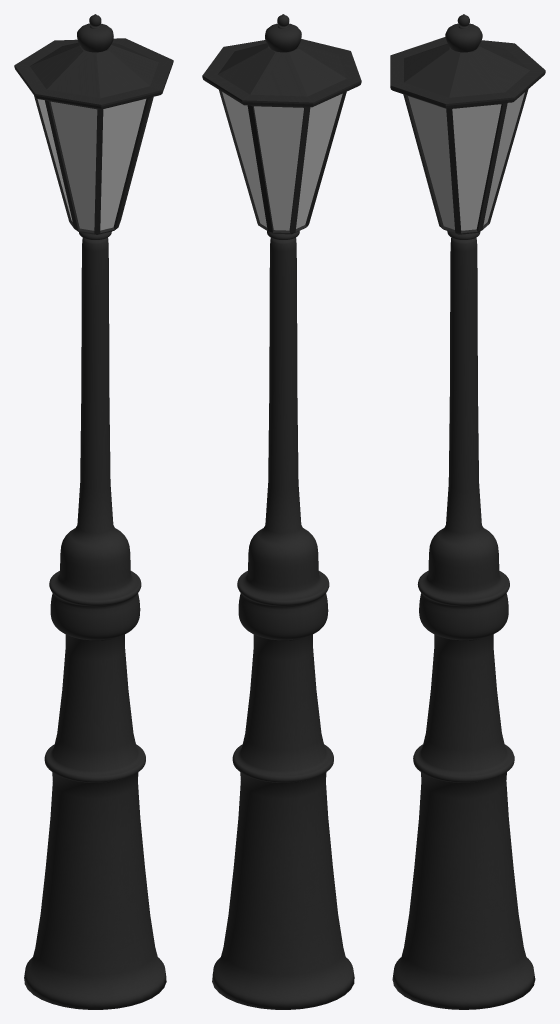
File: lamparaTextura.obj
The picture shows the model from 3 angles, left to right: view 1: azimuth 30°, elevation 25°; view 2: azimuth 150°, elevation 25°; view 3: azimuth 270°, elevation 25°; orthographic projection.
Parts seen in each view (by area): view 1: Cylinder_002; view 2: Cylinder_002; view 3: Cylinder_002.
Part boxes in pixels (x1,y1,x2,y2): Cylinder_002: (14, 14, 173, 1009); Cylinder_002: (202, 14, 361, 1009); Cylinder_002: (390, 14, 545, 1009).
Size of the model in its own units: 0.3596 by 2.4 by 0.3505.
